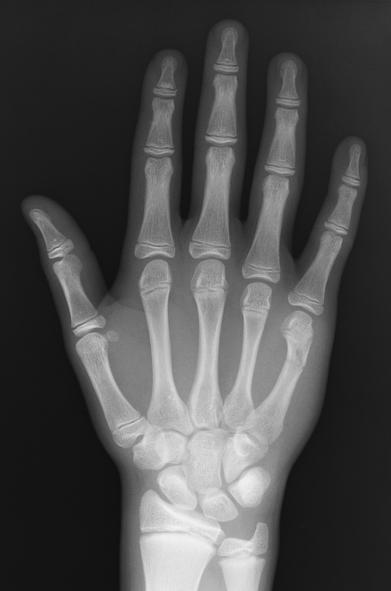fractured: (282, 350, 312, 375)
